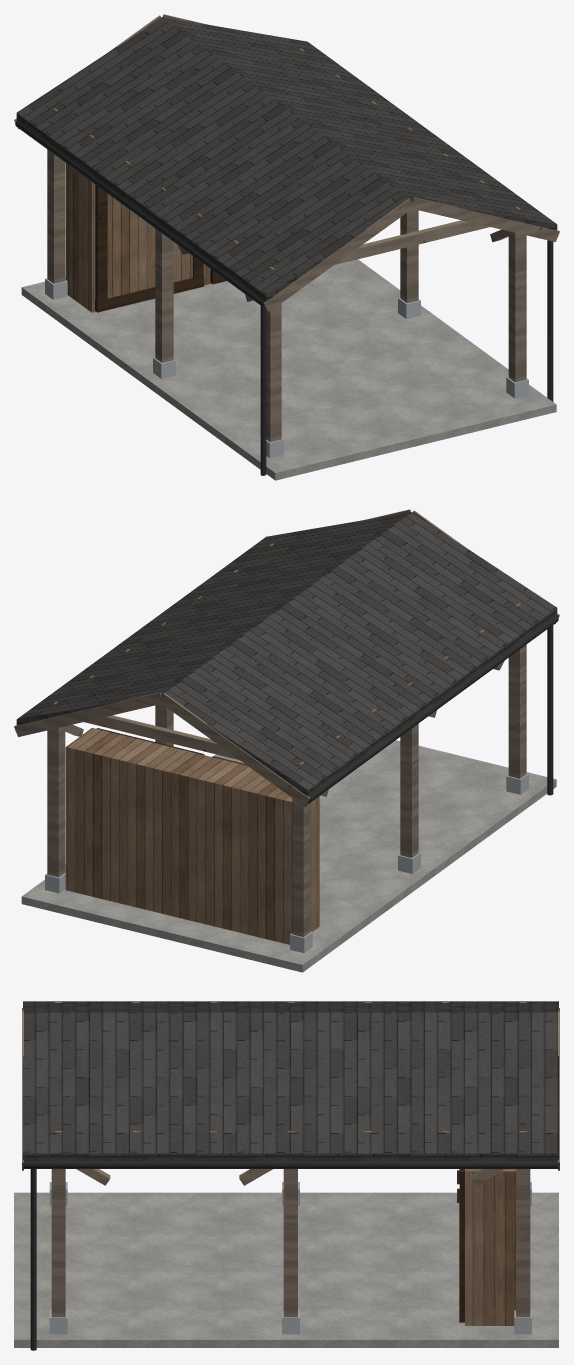
File: timber-carport.glb
3 renders of one model, top to bottom at view 1: azimuth 30°, elevation 25°; view 2: azimuth 150°, elevation 25°; view 3: azimuth 270°, elevation 25°, orthographic. The views are drawn at different scales.
Parts seen in each view (by area): view 1: Timber_Carport; view 2: Timber_Carport; view 3: Timber_Carport.
Boxes of the visible parts, x1,y1,x2,y2 form: Timber_Carport: (14,14,559,480); Timber_Carport: (14,509,559,972); Timber_Carport: (14,1001,559,1350).
Bounding box in the file's own units: 4.1 × 3.25 × 6.11.
Materials: 9 (6 with a texture image).
